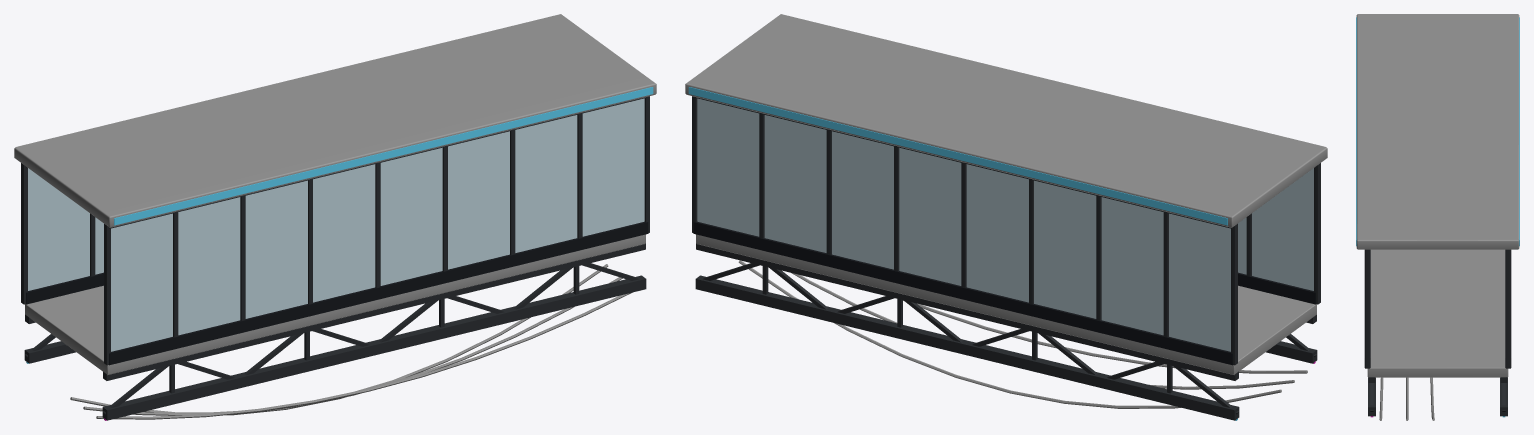
File: Skybridge_Enclosed_12m.fbx
3 renders of one model, left to right at view 1: azimuth 30°, elevation 25°; view 2: azimuth 150°, elevation 25°; view 3: azimuth 270°, elevation 25°, orthographic. The views are drawn at different scales.
Visible parts, largest first — view 1: Skybridge_Enclosed_12m_LOD0; view 2: Skybridge_Enclosed_12m_LOD0; view 3: Skybridge_Enclosed_12m_LOD0.
Part boxes in pixels (left/top/right/bottom): Skybridge_Enclosed_12m_LOD0: left=14, top=14, right=656, bottom=420; Skybridge_Enclosed_12m_LOD0: left=685, top=14, right=1327, bottom=420; Skybridge_Enclosed_12m_LOD0: left=1356, top=14, right=1519, bottom=420.
Size of what is drawn, in the model's own units: 12.2 by 5.98 by 3.72.
